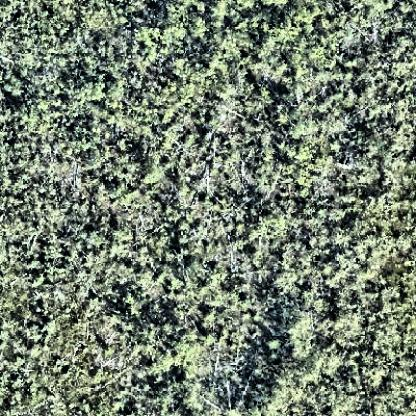tree-top: (275, 97, 294, 121), (110, 225, 132, 244), (265, 335, 284, 354), (274, 86, 293, 104), (341, 53, 360, 69), (202, 307, 219, 323), (166, 246, 182, 262), (239, 295, 252, 308), (399, 1, 413, 13)
